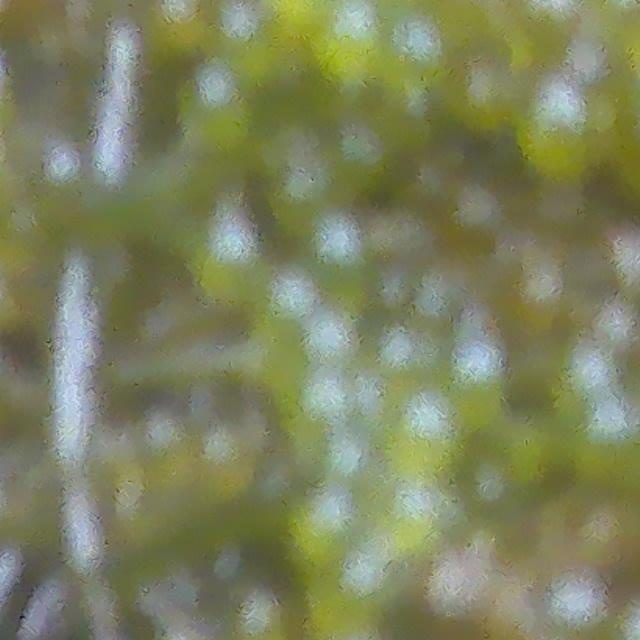SeaGrape: (307, 0, 391, 89), (285, 489, 360, 570), (186, 215, 258, 290)
